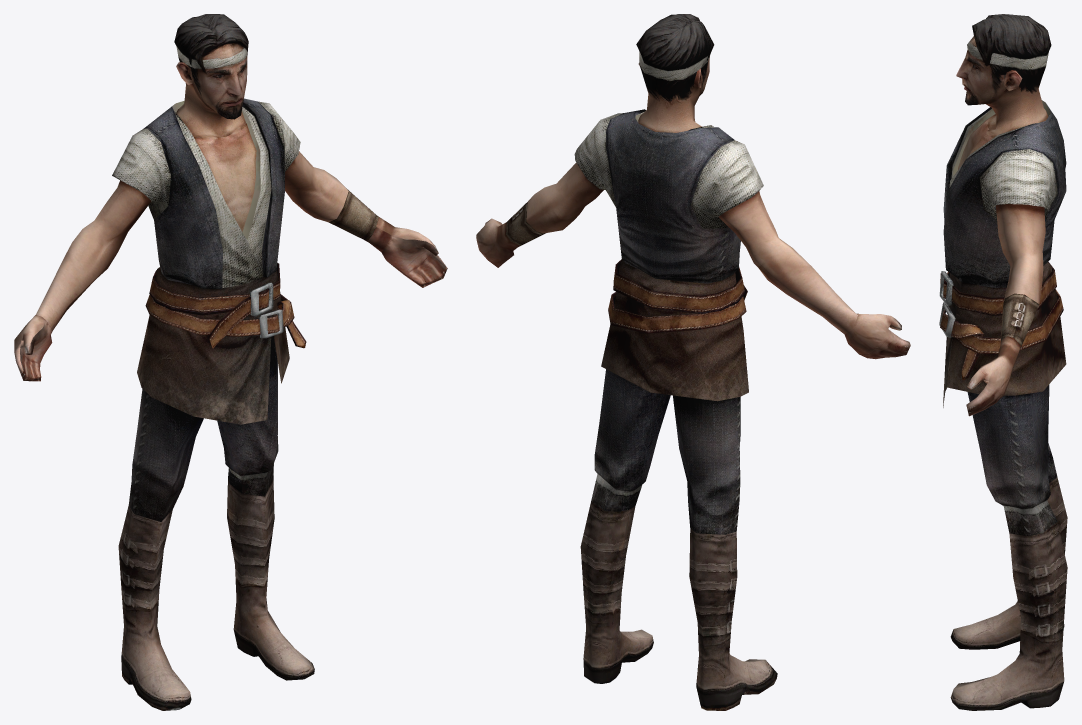
Rendered from pirate-smuggler-01.fbx.
3 renders of one model, left to right at view 1: azimuth 30°, elevation 25°; view 2: azimuth 150°, elevation 25°; view 3: azimuth 270°, elevation 25°, orthographic.
Visible parts, largest first — view 1: pirates-smuggler-01; view 2: pirates-smuggler-01; view 3: pirates-smuggler-01.
Boxes of the visible parts, bbox=[...] form: pirates-smuggler-01: bbox=[14, 14, 447, 710]; pirates-smuggler-01: bbox=[476, 14, 910, 710]; pirates-smuggler-01: bbox=[939, 14, 1067, 710].
Bounding box in the file's own units: 334 × 493 × 87.
